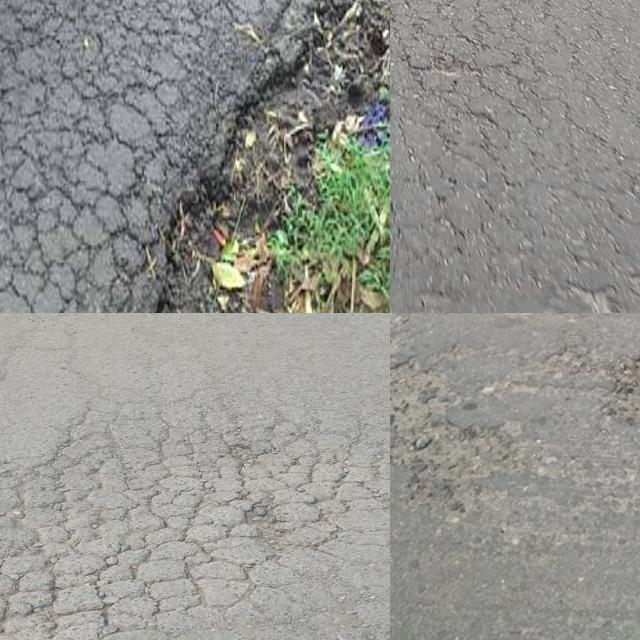Lubang: (607, 360, 640, 420)
Pinggir: (67, 0, 383, 313)
Retak Buaya: (0, 413, 390, 640), (0, 0, 267, 313), (390, 0, 580, 230)
